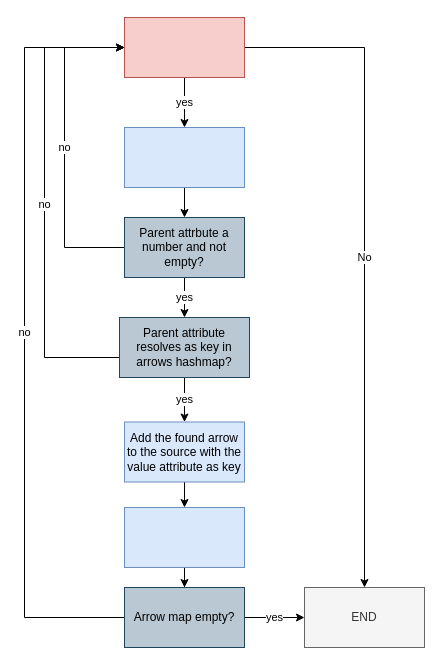
This 442x665 diagram has some shape labels left out. The shapes that lost their labels are listed below. From the top down, each one's centre as x and y in pixels, then its label:
[184,47]: DrawioCell map Iteraror has next?
[184,157]: Get next item
[184,537]: Remove arrow from hasmap,
